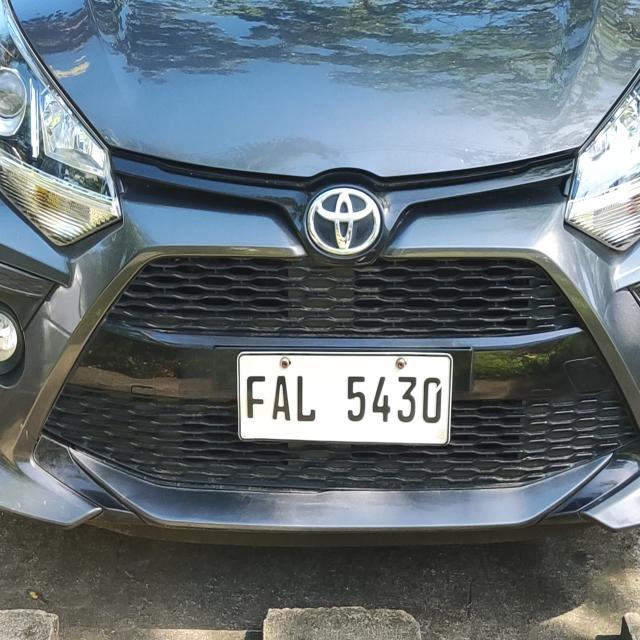plate: (232, 348, 458, 452)
